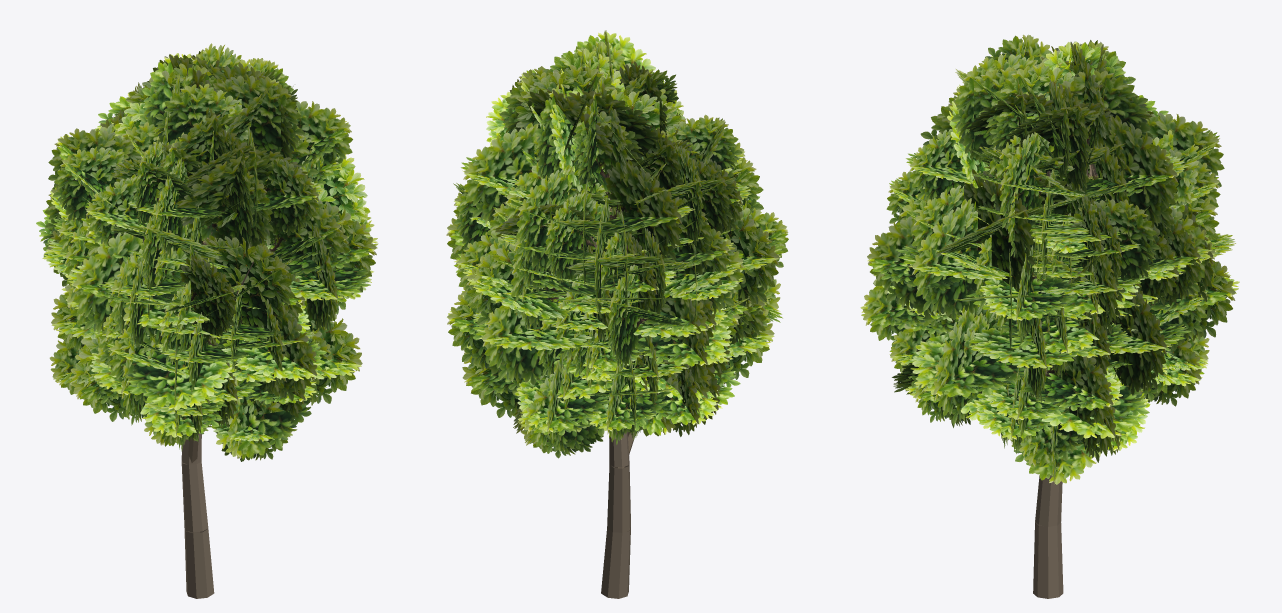
File: category_mesh_tree_2_v1.glb
The picture shows the model from 3 angles, left to right: view 1: azimuth 30°, elevation 25°; view 2: azimuth 150°, elevation 25°; view 3: azimuth 270°, elevation 25°; orthographic projection. The views are drawn at different scales.
Visible parts, largest first — view 1: category_mesh_tree_2_v1; view 2: category_mesh_tree_2_v1; view 3: category_mesh_tree_2_v1.
Boxes of the visible parts, x1,y1,x2,y2 form: category_mesh_tree_2_v1: (36, 43, 378, 598); category_mesh_tree_2_v1: (446, 30, 788, 598); category_mesh_tree_2_v1: (860, 34, 1239, 598).
Size of the model in its own units: 12.36 by 19.85 by 13.19.
1 material, 1 textured.
